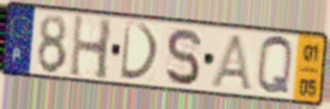8: (35, 12, 72, 75)
A: (208, 32, 255, 93)
D: (118, 19, 161, 82)
H: (67, 12, 115, 83)
Q: (255, 33, 295, 98)
S: (164, 26, 203, 87)
